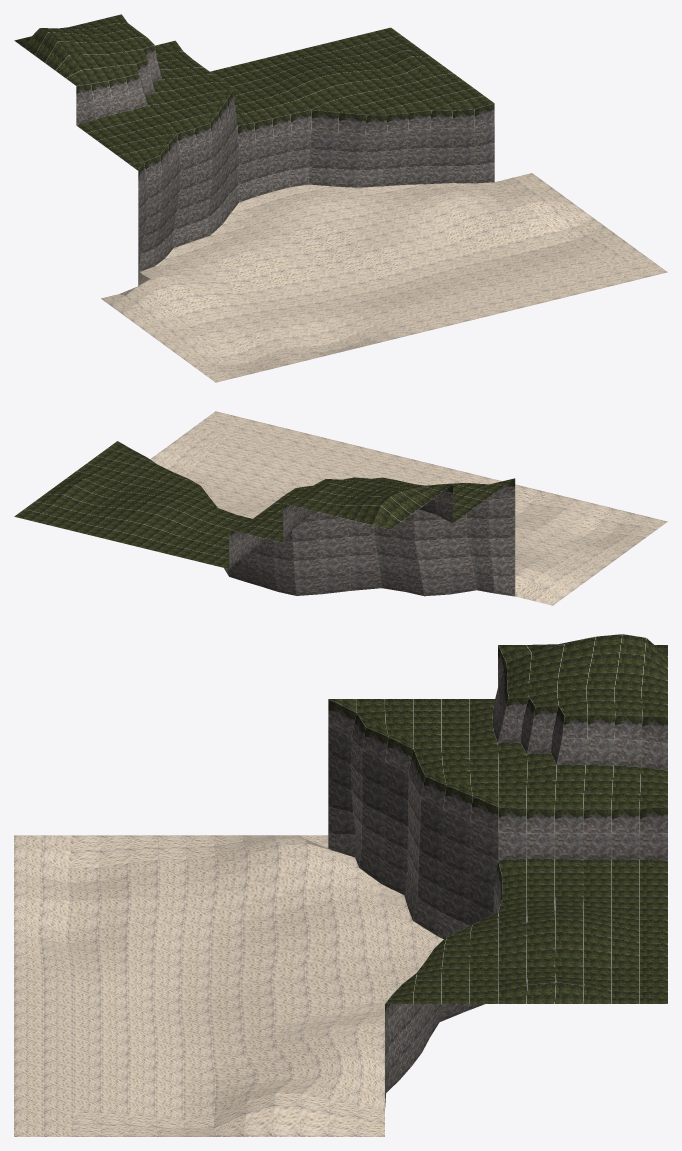
File: TheLagoon3.glb
The picture shows the model from 3 angles, top to bottom: view 1: azimuth 30°, elevation 25°; view 2: azimuth 150°, elevation 25°; view 3: azimuth 270°, elevation 25°; orthographic projection. The views are drawn at different scales.
Visible parts, largest first — view 1: Lagoon -col; view 2: Lagoon -col; view 3: Lagoon -col.
Boxes of the visible parts, x1=… form: Lagoon -col: x1=14, y1=14, x2=667, y2=382; Lagoon -col: x1=14, y1=411, x2=667, y2=605; Lagoon -col: x1=14, y1=634, x2=667, y2=1136.
Size of the model in its own units: 24 by 9.27 by 22.
Materials: 1 (1 with a texture image).
